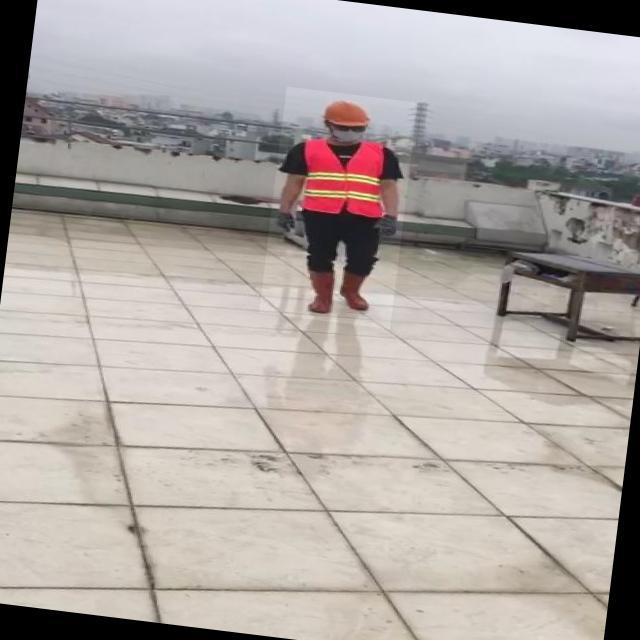Gloves: (379, 213, 402, 238), (272, 210, 296, 233)
Helmet: (315, 96, 377, 131)
Human: (259, 87, 418, 329)
Safety Boot: (300, 264, 341, 315), (334, 268, 377, 312)
Safety Vest: (297, 133, 390, 221)
